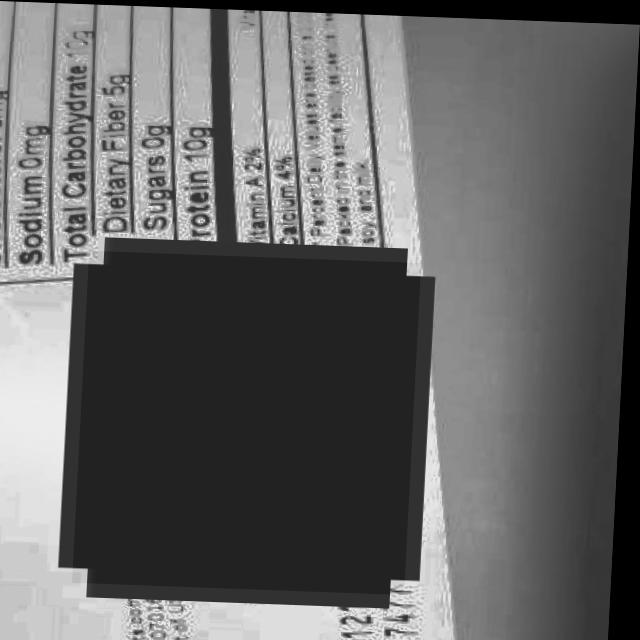qr_code: (78, 248, 424, 590)
